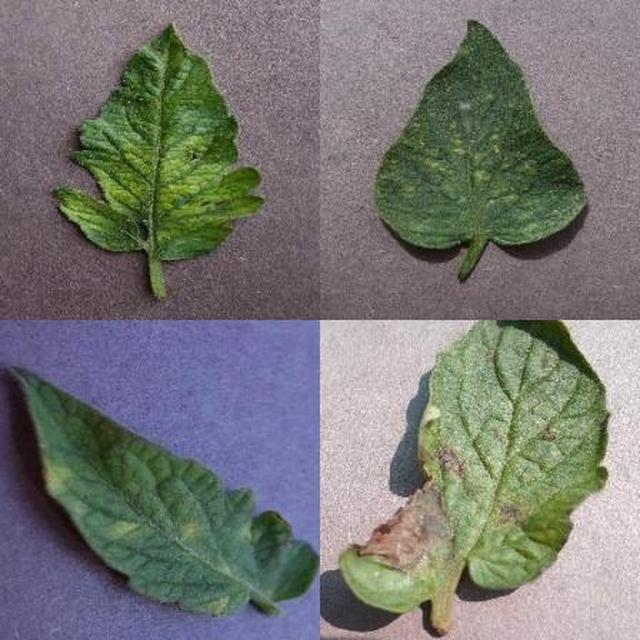Mosaic Virus Leaf: (227, 192, 640, 640)
